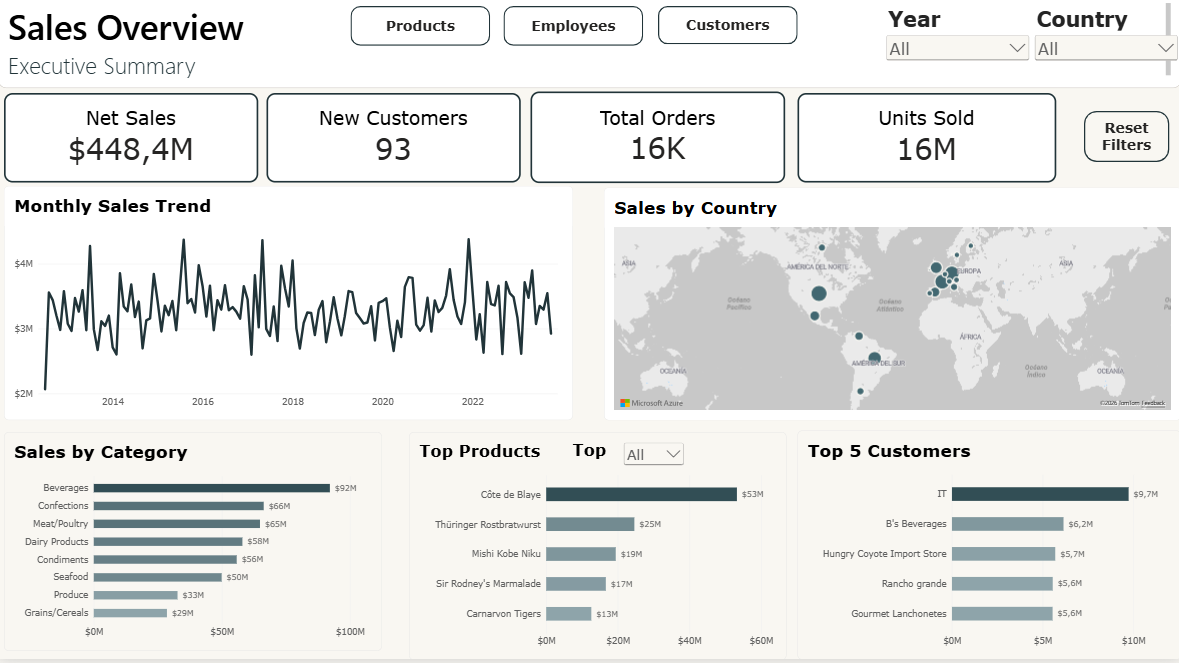

The dashboard page shown, as its layout file describes it:
{"tool":"powerbi","page":{"name":"Executive Summary","canvas":[1920,1080],"ordinal":0},"visuals":[{"type":"cardVisual","fields":{"Data":["ImportantMeasures.NetSales"]},"box":[9.5,159.9,412.8,145.5],"z":0},{"type":"cardVisual","fields":{"Data":["ImportantMeasures.NewCustomers"]},"box":[436.6,159.9,412.8,145.5],"z":1000},{"type":"cardVisual","fields":{"Data":["ImportantMeasures.TotalOrders"]},"box":[865.3,159,413.1,148.7],"z":2000},{"type":"cardVisual","fields":{"Data":["ImportantMeasures.YoYSalesChange"]},"box":[1225,540,287.5,120],"z":3000},{"type":"lineChart","title":"Monthly Sales Trend","fields":{"Category":["DimDate.YearMonthDate"],"Y":["ImportantMeasures.NetSales"]},"box":[10.3,311.9,923.2,380],"z":4000},{"type":"barChart","title":"Sales by Category","fields":{"Category":["DimProduct.CategoryName"],"Y":["ImportantMeasures.NetSales"]},"box":[9.5,711,613.2,355.5],"z":5000},{"type":"azureMap","title":"Sales by Country","fields":{"Category":["DimCustomer.Country"],"Size":["ImportantMeasures.NetSales"]},"box":[983.1,313.9,937.6,377.9],"z":6000},{"type":"barChart","title":"Top Products","fields":{"Category":["DimProduct.ProductName"],"Y":["ImportantMeasures.NetSales"]},"box":[666.4,710.5,612.5,370],"z":7000},{"type":"textbox","box":[0,0,1920.7,152.7],"z":8000},{"type":"cardVisual","fields":{"Data":["ImportantMeasures.UnitsSold"]},"box":[1297.9,159.9,419.9,145.5],"z":9000},{"type":"slicer","fields":{"Values":["DimDate.Year"]},"box":[1437.5,20,242.5,125],"z":10000},{"type":"slicer","fields":{"Values":["DimCustomer.Country"]},"box":[1677.5,20,242.5,125],"z":11000},{"type":"barChart","title":"Top 5 Customers","fields":{"Category":["DimCustomer.CustomerName"],"Y":["ImportantMeasures.NetSales"]},"box":[1297.9,708.6,622.7,372.2],"z":12000},{"type":"actionButton","title":"Reset Filters","box":[1763.7,190,138.4,82.6],"z":13000},{"type":"actionButton","title":"Products","box":[572.6,19.1,226.7,64.4],"z":14000},{"type":"actionButton","title":"Customers","box":[1071.3,19.1,226.7,62],"z":15000},{"type":"actionButton","title":"Employees","box":[820.8,19.1,226.7,64.4],"z":16000},{"type":"slicer","fields":{"Values":["Parameter.Parameter"]},"box":[1009.4,722.8,107.8,46.6],"z":17000},{"type":"textbox","box":[933.5,722.8,76,46.6],"z":18000}]}

Visuals, with their boxes in screenshot pixels (x1, y1, x2, y2), scaled from the page's 1920x1080 canvas onto the 1179x663 screenshot:
cardVisual - ImportantMeasures.NetSales: crop(6, 98, 259, 187)
cardVisual - ImportantMeasures.NewCustomers: crop(268, 98, 522, 187)
cardVisual - ImportantMeasures.TotalOrders: crop(531, 98, 785, 189)
cardVisual - ImportantMeasures.YoYSalesChange: crop(752, 332, 929, 405)
"Monthly Sales Trend" lineChart: crop(6, 191, 573, 425)
"Sales by Category" barChart: crop(6, 436, 382, 655)
"Sales by Country" azureMap: crop(604, 193, 1178, 425)
"Top Products" barChart: crop(409, 436, 785, 662)
textbox: crop(0, 0, 1178, 94)
cardVisual - ImportantMeasures.UnitsSold: crop(797, 98, 1055, 187)
slicer - DimDate.Year: crop(883, 12, 1032, 89)
slicer - DimCustomer.Country: crop(1030, 12, 1178, 89)
"Top 5 Customers" barChart: crop(797, 435, 1178, 662)
"Reset Filters" actionButton: crop(1083, 117, 1168, 167)
"Products" actionButton: crop(352, 12, 491, 51)
"Customers" actionButton: crop(658, 12, 797, 50)
"Employees" actionButton: crop(504, 12, 643, 51)
slicer - Parameter.Parameter: crop(620, 444, 686, 472)
textbox: crop(573, 444, 620, 472)
